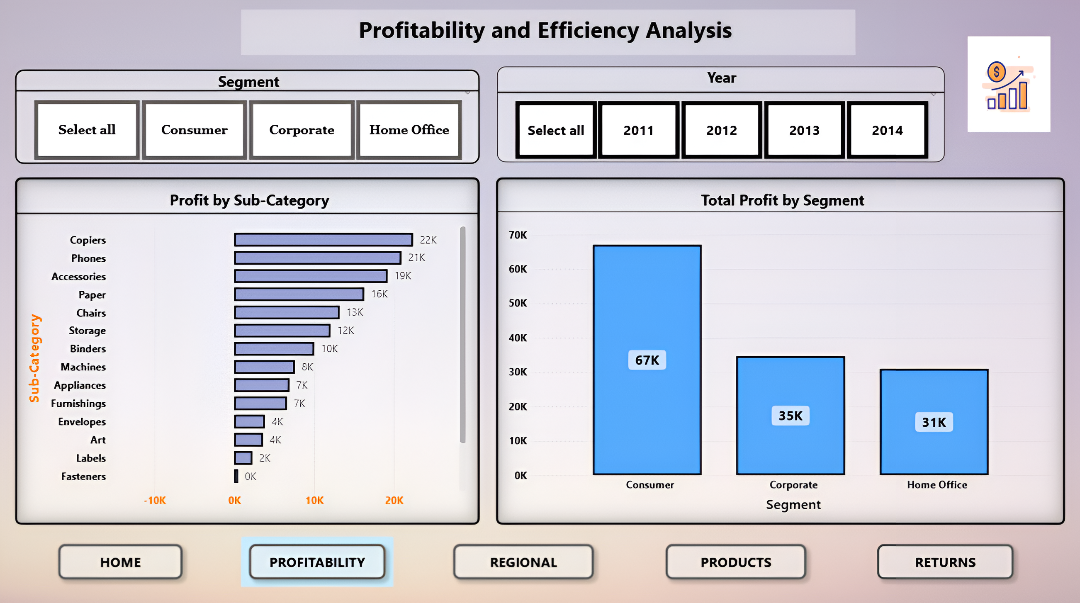

What the dashboard file says about the page in this screenshot:
{"tool":"powerbi","page":{"name":"Profitability Analysis","canvas":[1280,720],"ordinal":1},"visuals":[{"type":"barChart","title":"Profit by Sub-Category","fields":{"Category":["Orders.Sub-Category"],"Y":["Orders.Total Profit"]},"box":[23.2,211.6,547.8,409.6],"z":0},{"type":"lineClusteredColumnComboChart","fields":{"Category":["Orders.Segment"],"Y":["Orders.Total Profit"]},"box":[590.6,211.6,671.3,409.6],"z":1000},{"type":"actionButton","box":[65.1,634.6,165.3,60.3],"z":2000},{"type":"actionButton","box":[289.5,634.6,179.8,60.3],"z":3000},{"type":"actionButton","box":[530.8,634.6,184.6,60.3],"z":4000},{"type":"actionButton","box":[781.8,634.6,184.6,60.3],"z":5000},{"type":"actionButton","box":[1030.3,634.6,179.8,60.3],"z":6000},{"type":"textbox","box":[289.8,13.5,725.1,53.8],"z":7000},{"type":"image","box":[1142.1,40.4,107.6,122.3],"z":8000},{"type":"slicer","title":"Segment","fields":{"Values":["Orders.Segment"]},"box":[23.2,84.4,547.8,111.3],"z":9000},{"type":"slicer","title":"Year","fields":{"Values":["Orders.Order Date.Variation.Date Hierarchy.Year"]},"box":[591.4,81,528.3,112.5],"z":10000}]}

Visuals, with their boxes in screenshot pixels (x1, y1, x2, y2), scaled from the page's 1280x720 canvas onto the 1080x603 screenshot:
"Profit by Sub-Category" barChart: {"left": 20, "top": 177, "right": 482, "bottom": 520}
lineClusteredColumnComboChart - Orders.Segment x Orders.Total Profit: {"left": 498, "top": 177, "right": 1065, "bottom": 520}
actionButton: {"left": 55, "top": 531, "right": 194, "bottom": 582}
actionButton: {"left": 244, "top": 531, "right": 396, "bottom": 582}
actionButton: {"left": 448, "top": 531, "right": 604, "bottom": 582}
actionButton: {"left": 660, "top": 531, "right": 815, "bottom": 582}
actionButton: {"left": 869, "top": 531, "right": 1021, "bottom": 582}
textbox: {"left": 245, "top": 11, "right": 856, "bottom": 56}
image: {"left": 964, "top": 34, "right": 1054, "bottom": 136}
"Segment" slicer: {"left": 20, "top": 71, "right": 482, "bottom": 164}
"Year" slicer: {"left": 499, "top": 68, "right": 945, "bottom": 162}
